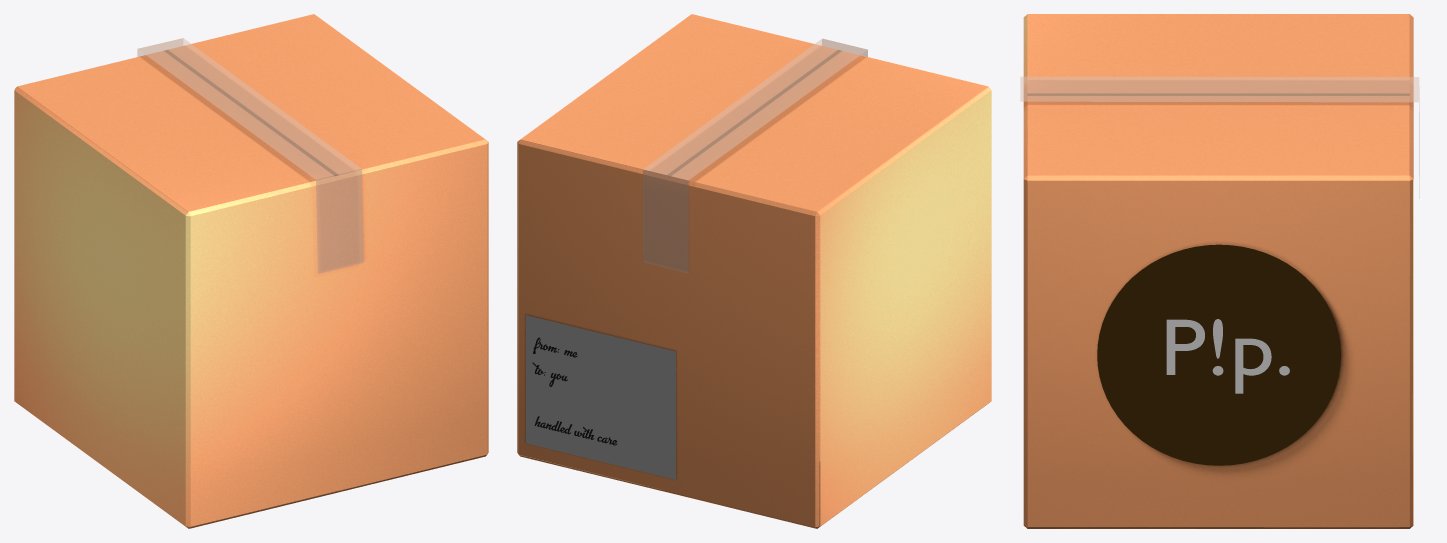
File: plop-parcel.glb
3 renders of one model, left to right at view 1: azimuth 30°, elevation 25°; view 2: azimuth 150°, elevation 25°; view 3: azimuth 270°, elevation 25°, orthographic. The views are drawn at different scales.
Visible parts, largest first — view 1: outline, Plane.002; view 2: outline, Plane, Plane.002, Text; view 3: outline, Circle, Plane.002, P!p.
Part boxes in pixels (x1,y1,x2,y2): outline: [14, 14, 488, 528]; Plane.002: [137, 38, 363, 273]; outline: [517, 14, 991, 528]; Plane: [526, 315, 675, 479]; Plane.002: [643, 38, 867, 273]; Text: [532, 337, 617, 445]; outline: [1023, 14, 1413, 528]; Circle: [1097, 244, 1340, 465]; Plane.002: [1020, 76, 1419, 198]; P!p: [1166, 319, 1289, 393].
Bounding box in the file's own units: 2.04 × 2.01 × 2.1.
Materials: 6 (1 with a texture image).
